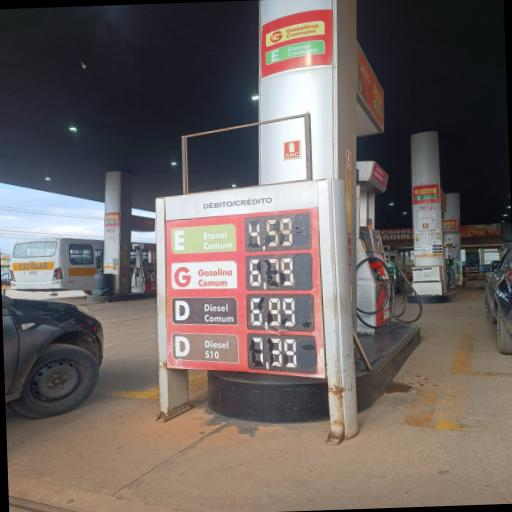ETANOL: (169, 224, 237, 253)
GASOLINA C: (166, 259, 241, 291)
S10: (172, 333, 240, 364)
S500: (170, 296, 237, 328)
placa: (163, 208, 324, 377)
preco: (243, 212, 300, 255), (247, 333, 301, 372), (246, 254, 299, 289), (249, 292, 301, 326)
